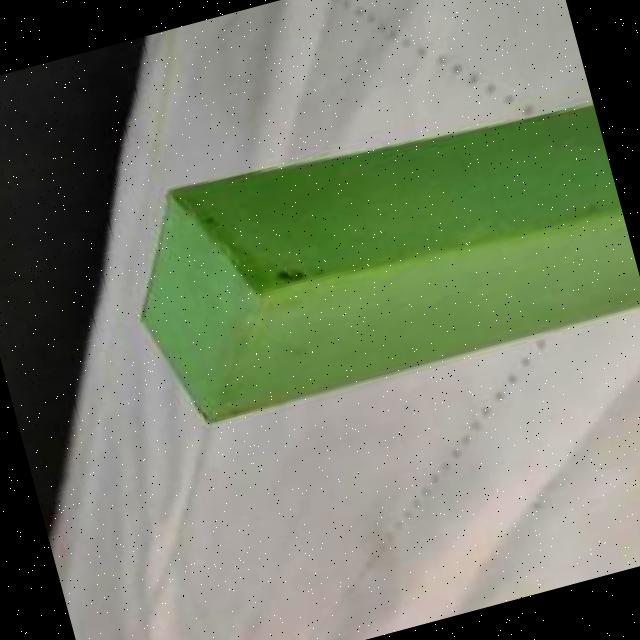greenbox: (109, 78, 640, 431)
